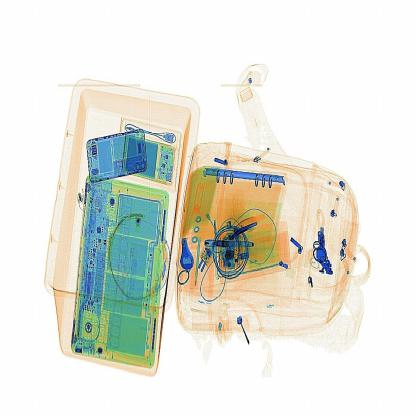pliers: (224, 205, 274, 243)
